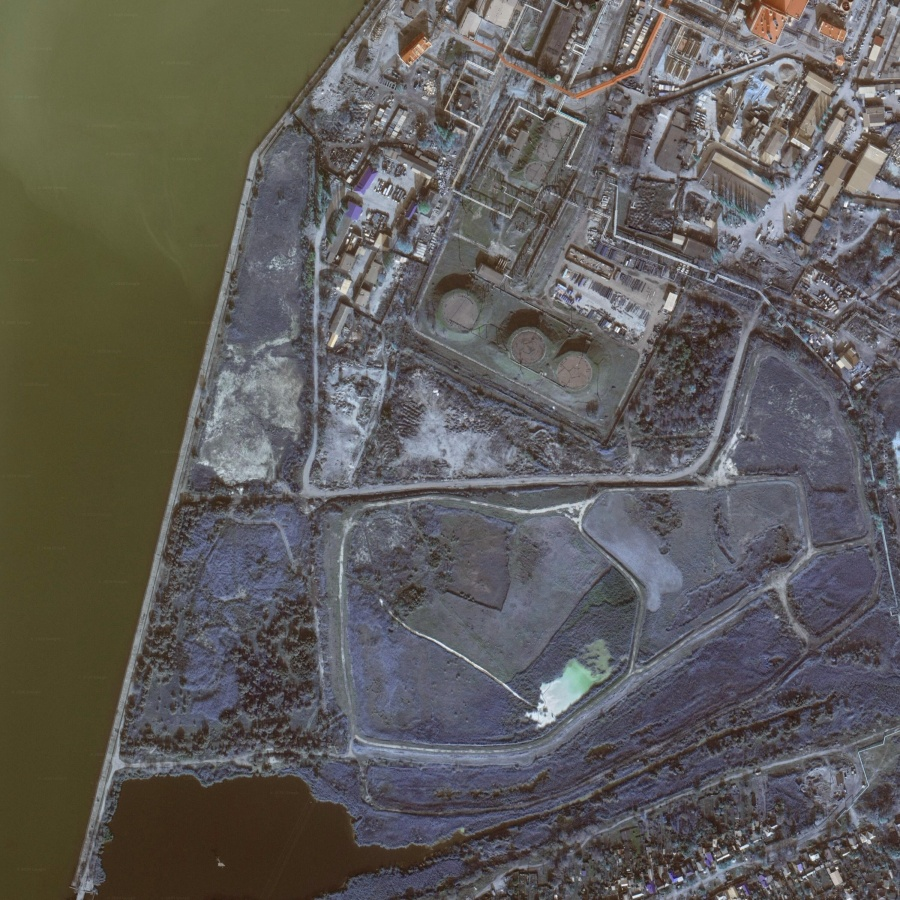PowerPlant: (423, 110, 609, 404)
